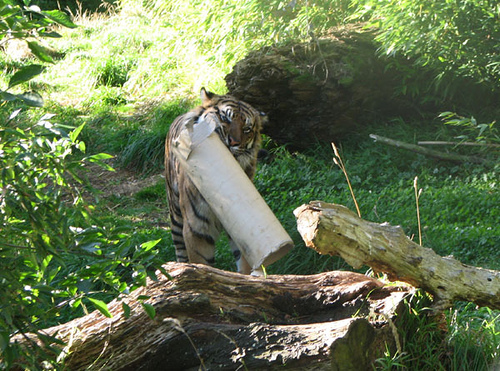Tigre: (144, 92, 267, 252)
